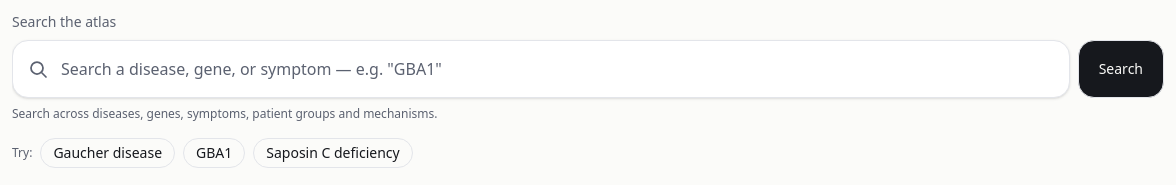
Test: GlobalSearch › does not navigate on an empty query and explains why
Click the button "Search".
click(1121, 69)  # box [1078,40,1164,98]
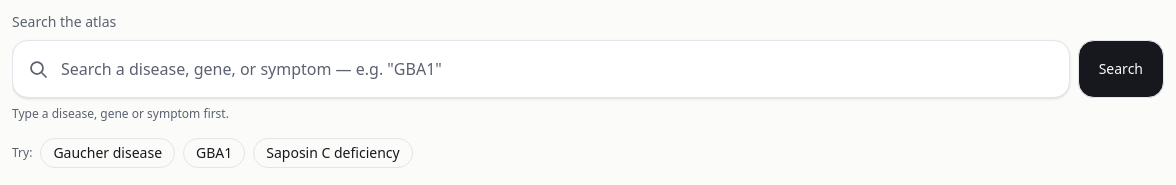
expect the text "Type a disease, gene or symptom first." is shown: met, box [12,105,229,122]
